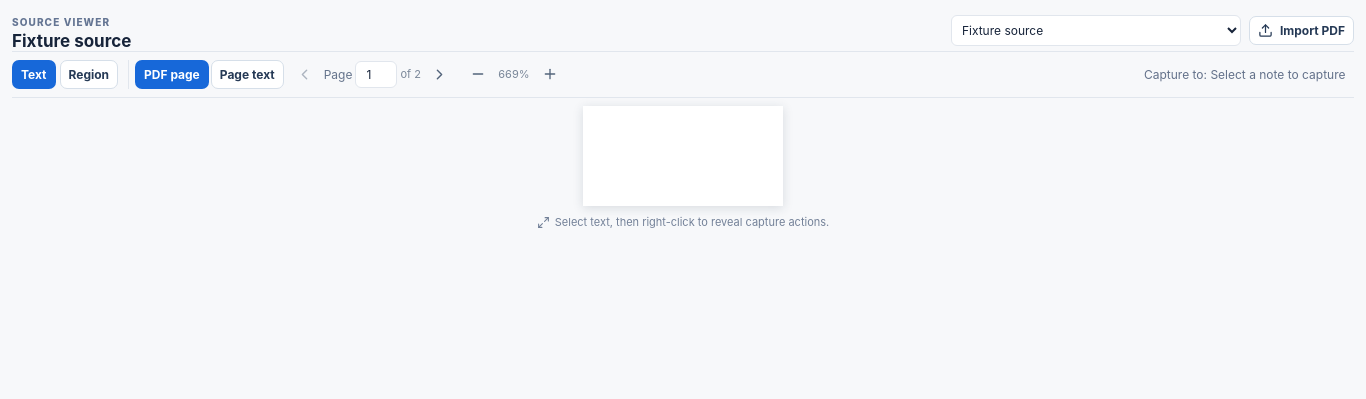
Test case: PDF interaction regression › disables capture without an explicit receiving note
Click the button "Page text" at x=247, y=74, box [211,60,284,88]
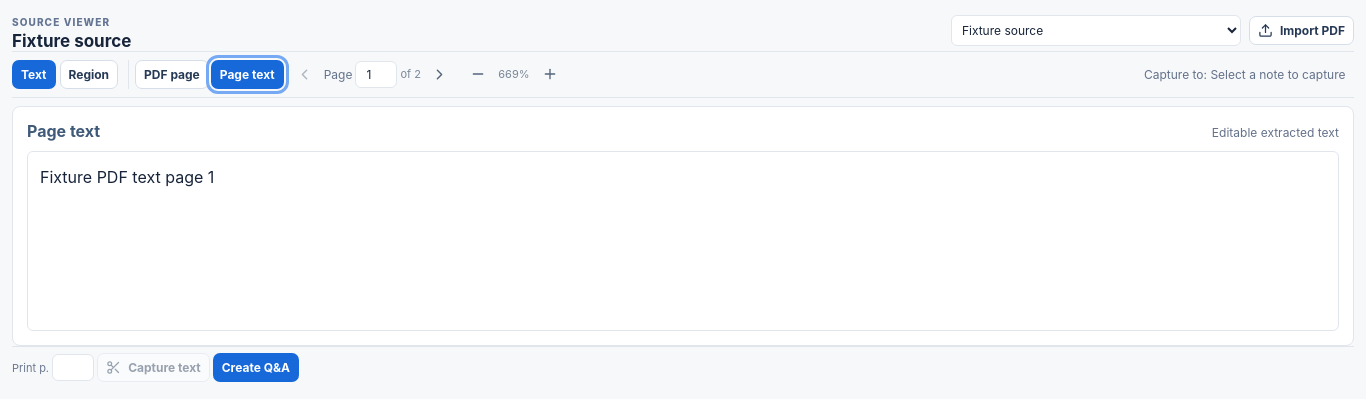
Check: the text "Capture to: Select a note to capture" is shown, box [1144,66,1354,82]
Check: the button "Capture text" is disabled, box [97,353,210,382]
